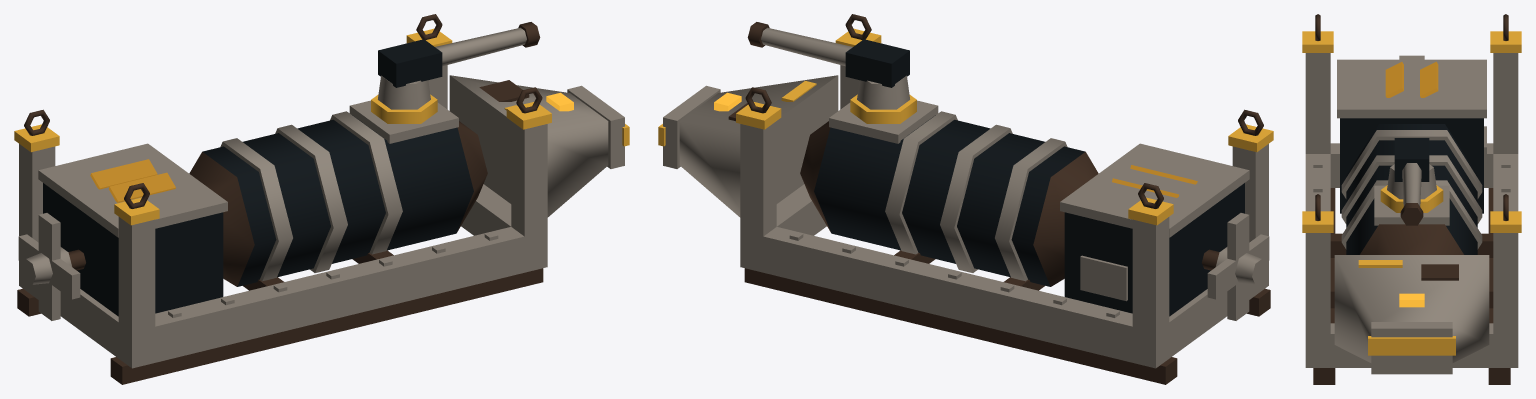
File: spark-bathyarch.glb
3 renders of one model, left to right at view 1: azimuth 30°, elevation 25°; view 2: azimuth 150°, elevation 25°; view 3: azimuth 270°, elevation 25°, orthographic. The views are drawn at different scales.
Parts seen in each view (by area): view 1: plant_cylinder, frame_rail_s, drive_box, nose_wedge, drive_roof, skid_s, frame_post_s1, frame_post_s0, plant_head_a, frame_bar_a, plant_band_1, plant_band_2 (+20 smaller); view 2: plant_cylinder, frame_rail_p, nose_wedge, drive_box, drive_roof, skid_p, frame_post_p1, frame_post_p0, frame_bar_a, plant_head_a, plant_band_1, plant_band_2 (+18 smaller); view 3: nose_wedge, drive_roof, plant_cylinder, drive_box, frame_post_p0, frame_post_s0, bow_plate, plant_head_f, frame_post_s1, frame_post_p1, frame_bar_f, plant_band_0 (+25 smaller).
Boxes of the visible parts, x1,y1,x2,y2 form: plant_cylinder: [202, 115, 473, 286]; frame_rail_s: [119, 227, 547, 368]; drive_box: [43, 183, 223, 316]; nose_wedge: [449, 75, 608, 217]; drive_roof: [38, 143, 227, 237]; skid_s: [110, 268, 543, 384]; frame_post_s1: [118, 217, 155, 367]; frame_post_s0: [511, 121, 547, 243]; plant_head_a: [189, 152, 254, 286]; frame_bar_a: [19, 264, 155, 367]; plant_band_1: [275, 124, 347, 272]; plant_band_2: [330, 111, 402, 254]; plant_cylinder: [814, 115, 1085, 286]; frame_rail_p: [740, 227, 1165, 368]; nose_wedge: [679, 75, 838, 217]; drive_box: [1064, 183, 1244, 316]; drive_roof: [1060, 143, 1249, 237]; skid_p: [744, 268, 1177, 384]; frame_post_p1: [1132, 217, 1169, 367]; frame_post_p0: [740, 121, 776, 257]; frame_bar_a: [1132, 262, 1268, 367]; plant_head_a: [1033, 152, 1098, 286]; plant_band_1: [940, 124, 1012, 272]; plant_band_2: [885, 111, 957, 254]; nose_wedge: [1334, 255, 1489, 362]; drive_roof: [1337, 59, 1486, 118]; plant_cylinder: [1346, 124, 1477, 254]; drive_box: [1340, 118, 1483, 213]; frame_post_p0: [1493, 233, 1518, 367]; frame_post_s0: [1305, 233, 1330, 367]; bow_plate: [1371, 322, 1452, 374]; plant_head_f: [1360, 224, 1463, 254]; frame_post_s1: [1305, 53, 1330, 153]; frame_post_p1: [1493, 53, 1518, 153]; frame_bar_f: [1305, 323, 1518, 367]; plant_band_0: [1341, 130, 1482, 198].
Size of the model in its own units: 20 by 7.02 by 7.
